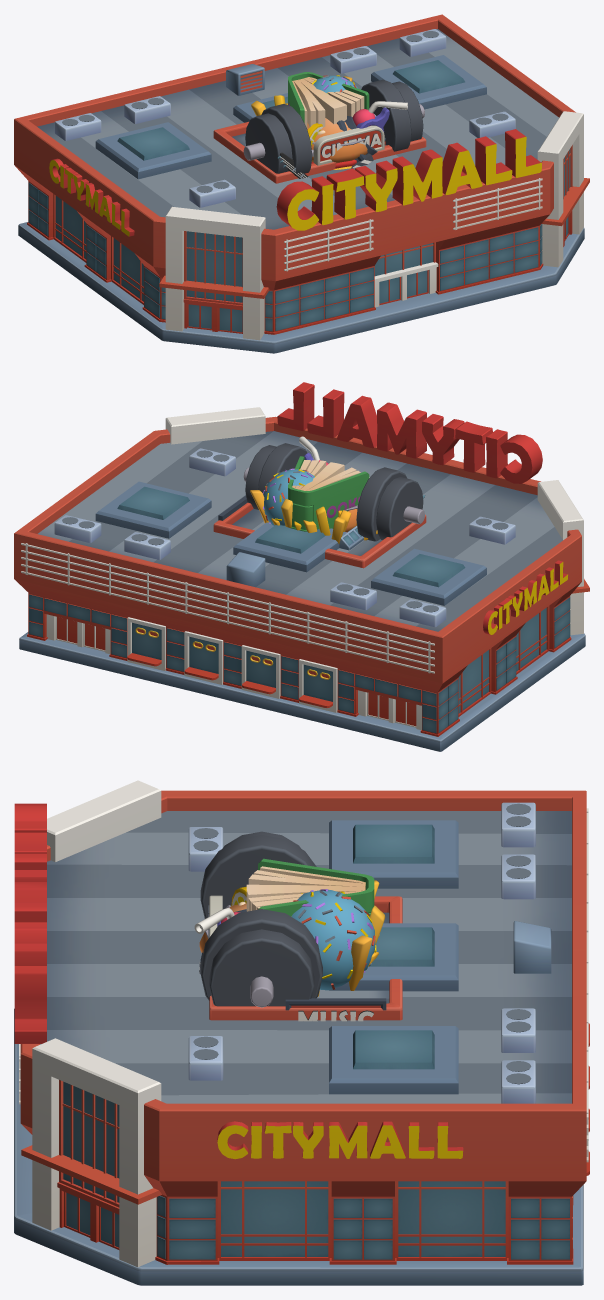
Rendered from AllinOne-01.fbx.
3 views of the same model, one above another, from view 1: azimuth 30°, elevation 25°; view 2: azimuth 150°, elevation 25°; view 3: azimuth 270°, elevation 25° (orthographic). The views are drawn at different scales.
Visible parts, largest first — view 1: mall_001, gym_001, cinema_001, library_001, burger_shop_001, bar_001, ice_cream_shop_001; view 2: mall_001, gym_001, library_001, cinema_001, fastfood_001, ice_cream_shop_001; view 3: mall_001, gym_001, ice_cream_shop_001, library_001, cinema_001, music_store_001, fastfood_001, bar_001.
Boxes of the visible parts, x1,y1,x2,y2 form: mall_001: (14,14,589,353); gym_001: (243,79,424,175); cinema_001: (213,121,426,183); library_001: (288,72,369,128); burger_shop_001: (307,118,367,169); bar_001: (307,101,407,146); ice_cream_shop_001: (312,75,358,94); mall_001: (14,382,589,751); gym_001: (243,443,424,541); library_001: (288,456,369,531); cinema_001: (213,477,426,568); fastfood_001: (250,490,377,543); ice_cream_shop_001: (262,468,315,525); mall_001: (14,780,589,1285); gym_001: (200,831,322,1007); ice_cream_shop_001: (291,889,376,990); library_001: (246,858,374,916); cinema_001: (199,895,402,1020); music_store_001: (285,998,386,1021); fastfood_001: (318,880,385,996); bar_001: (194,886,246,937).
Size of the model in its own units: 4097 by 3042 by 1463.
1 material, 1 textured.
